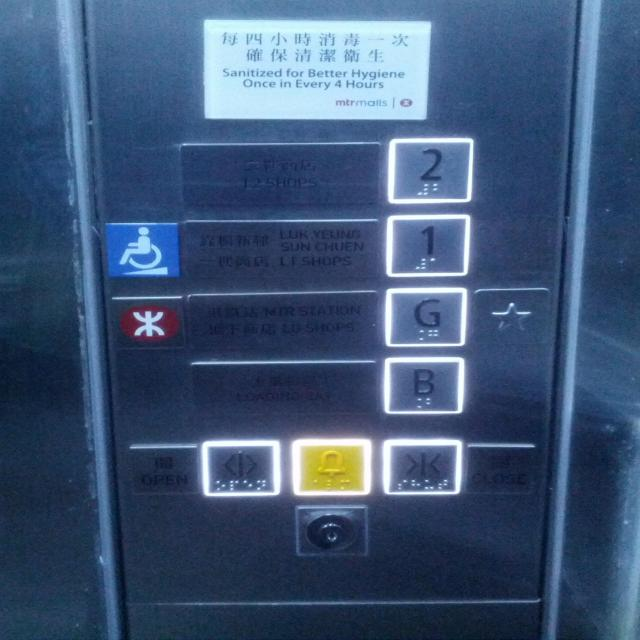1: (387, 213, 470, 278)
2: (389, 137, 473, 203)
B: (385, 356, 463, 415)
CH: (102, 222, 178, 282)
G: (384, 287, 466, 348)
alarm: (290, 440, 372, 497)
close: (380, 437, 460, 497)
keyhole: (293, 504, 366, 557)
open: (200, 440, 284, 496)
s: (471, 286, 553, 349)
